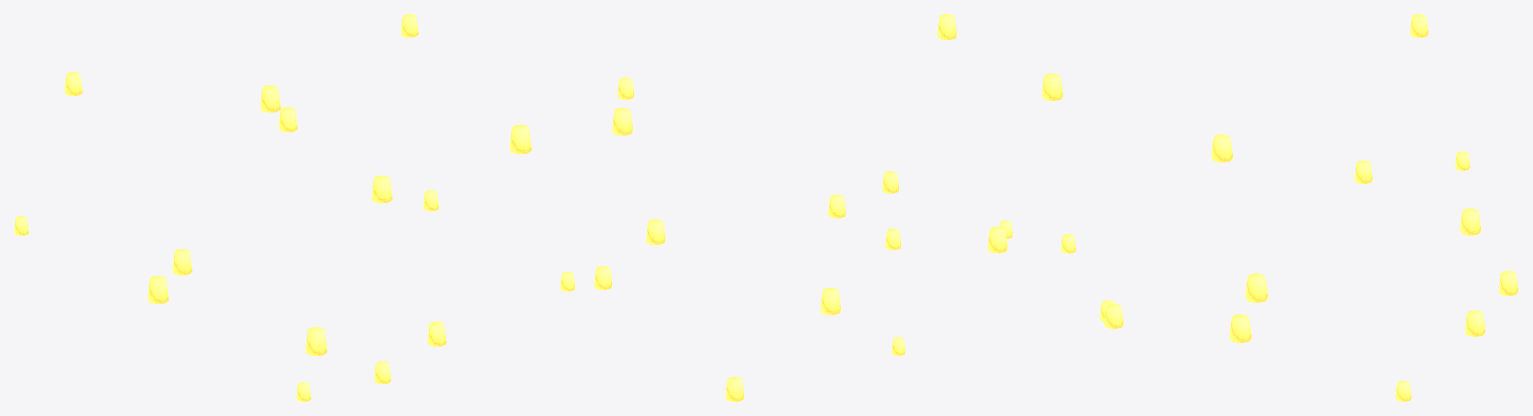
The model's file is sky_lanterns.glb.
3 views of the same model, side by side, from view 1: azimuth 30°, elevation 25°; view 2: azimuth 150°, elevation 25°; view 3: azimuth 270°, elevation 25° (orthographic). The views are drawn at different scales.
Visible parts, largest first — view 1: SkyLanterns; view 2: SkyLanterns; view 3: SkyLanterns.
Part boxes in pixels (x1,y1,x2,y2): SkyLanterns: [14, 14, 531, 401]; SkyLanterns: [560, 14, 1012, 401]; SkyLanterns: [1041, 14, 1518, 401].
Size of the model in its own units: 19.64 by 11.53 by 19.75.
1 material, 1 textured.
